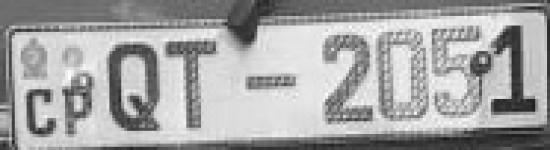-: (242, 69, 300, 95)
0: (374, 28, 431, 124)
1: (488, 20, 541, 117)
2: (318, 25, 377, 128)
5: (432, 22, 483, 120)
C: (23, 85, 58, 142)
P: (59, 84, 96, 139)
Q: (106, 39, 166, 133)
T: (164, 37, 226, 133)
